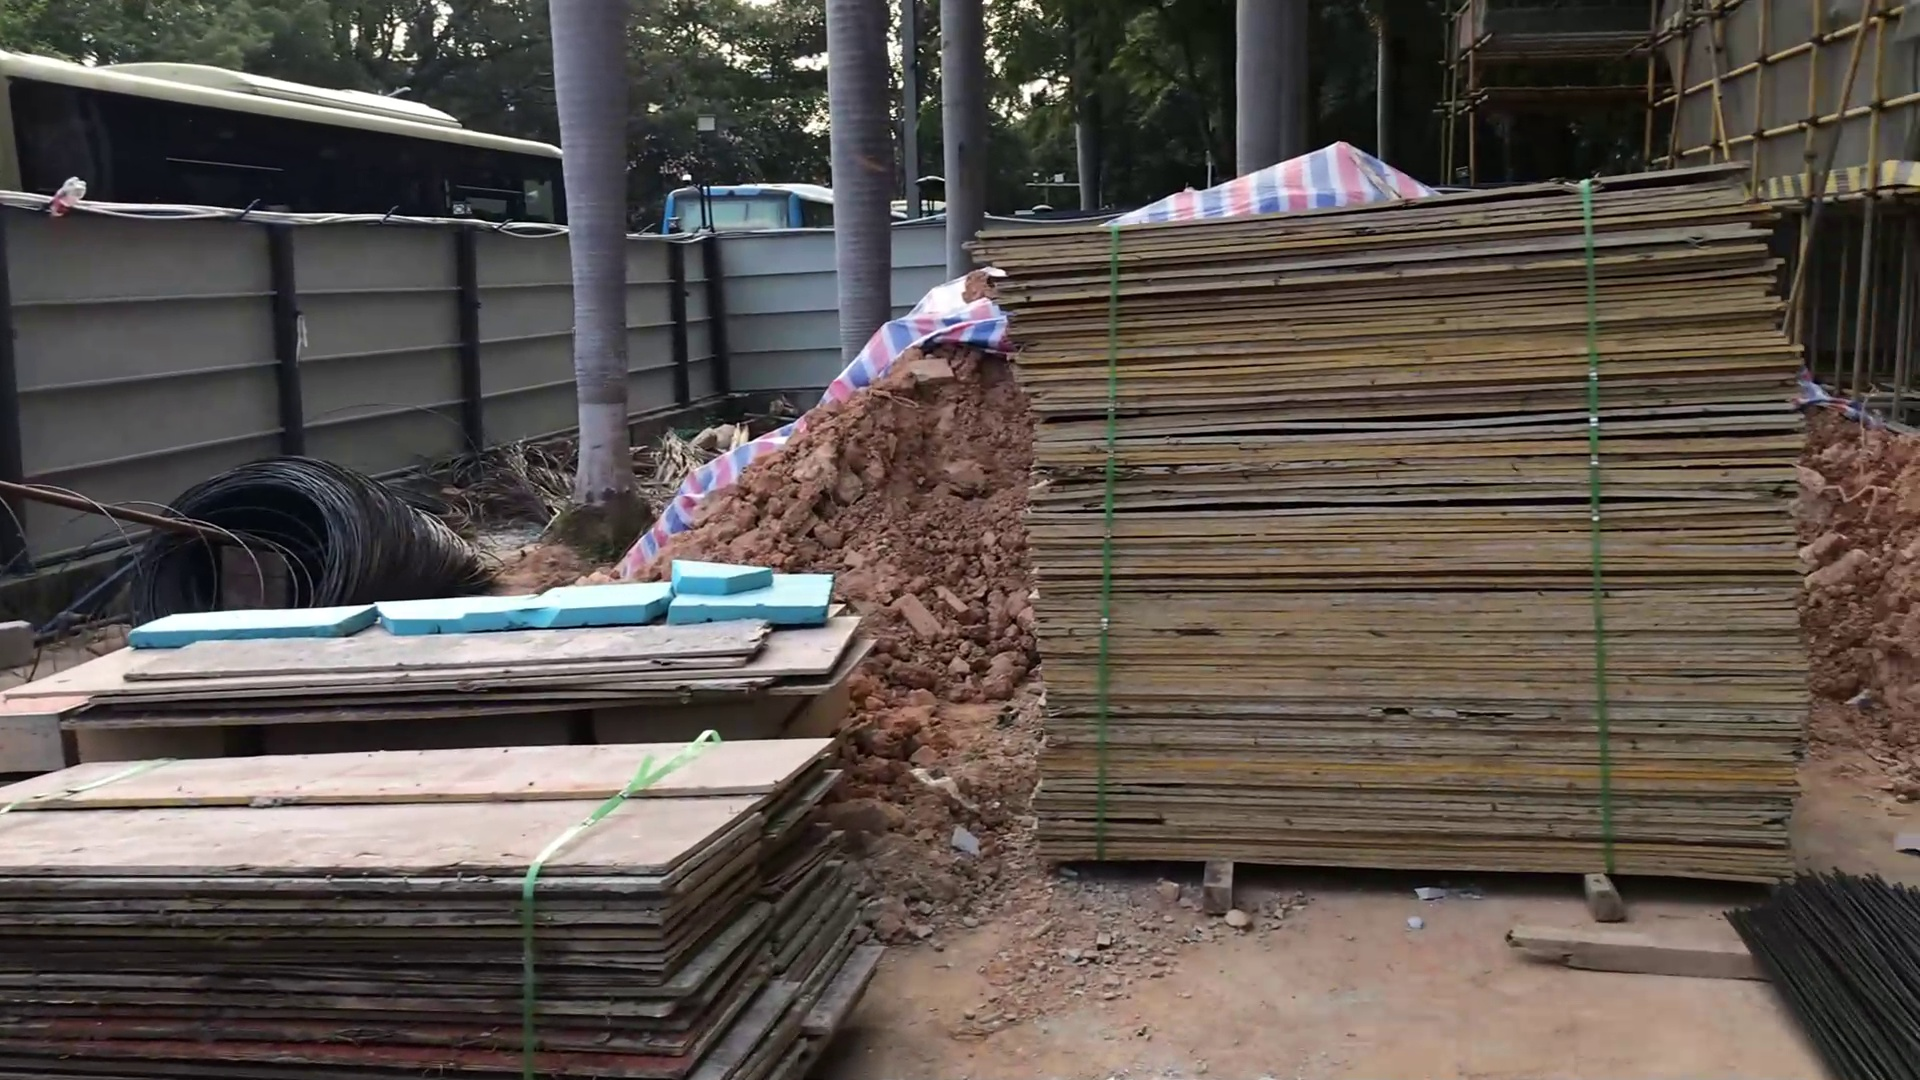board: (965, 142, 1817, 902), (1, 721, 893, 1072)
rebar: (1720, 864, 1915, 1080)
